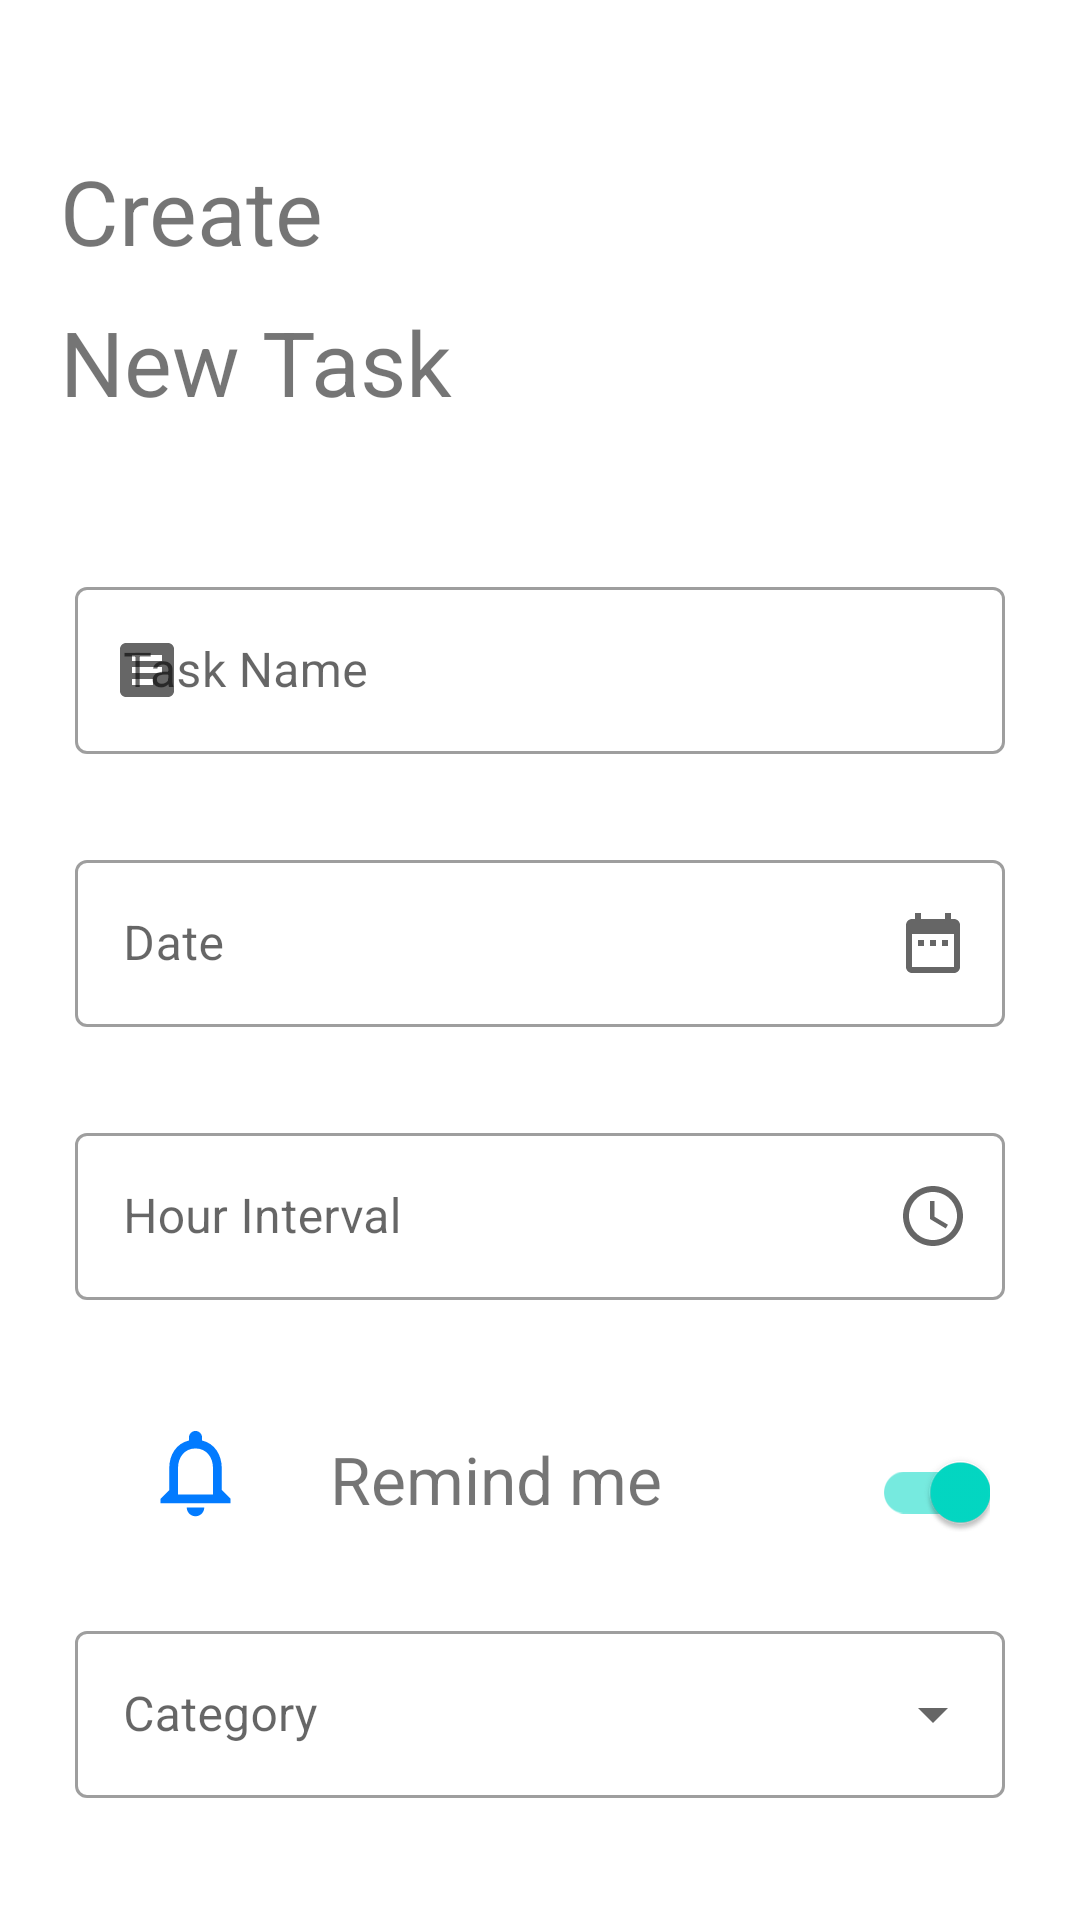

Point at icon controls on the screen. Image size 1080×1920, points as [x,y].
notifications none: [195,1474]
